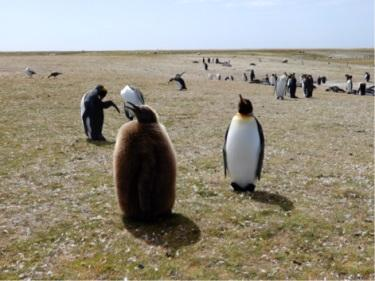king: (211, 87, 271, 198)
